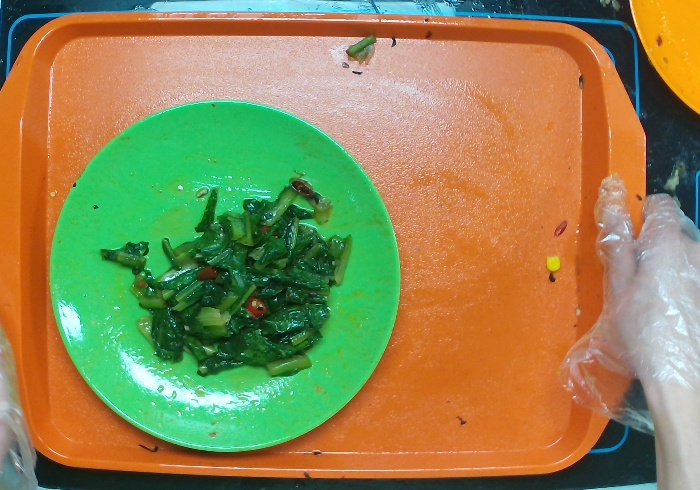HZYJPL-Lv_Se_Yuan_Pan: (44, 96, 406, 455)
